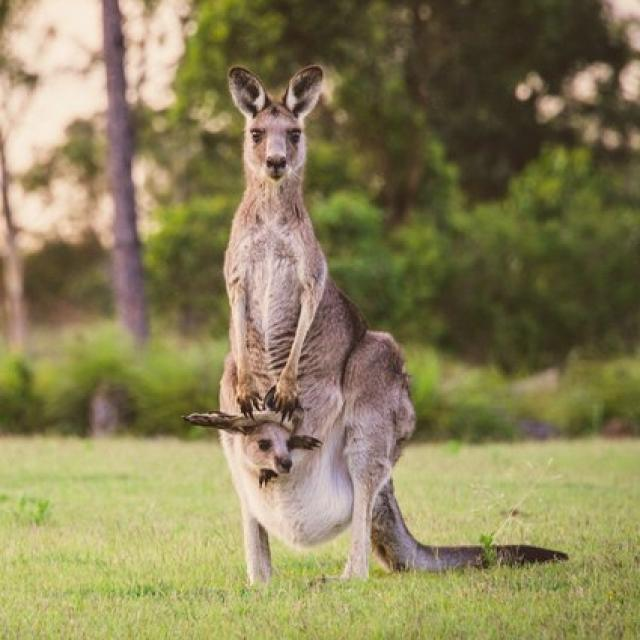kangaroo: (184, 65, 565, 581)
